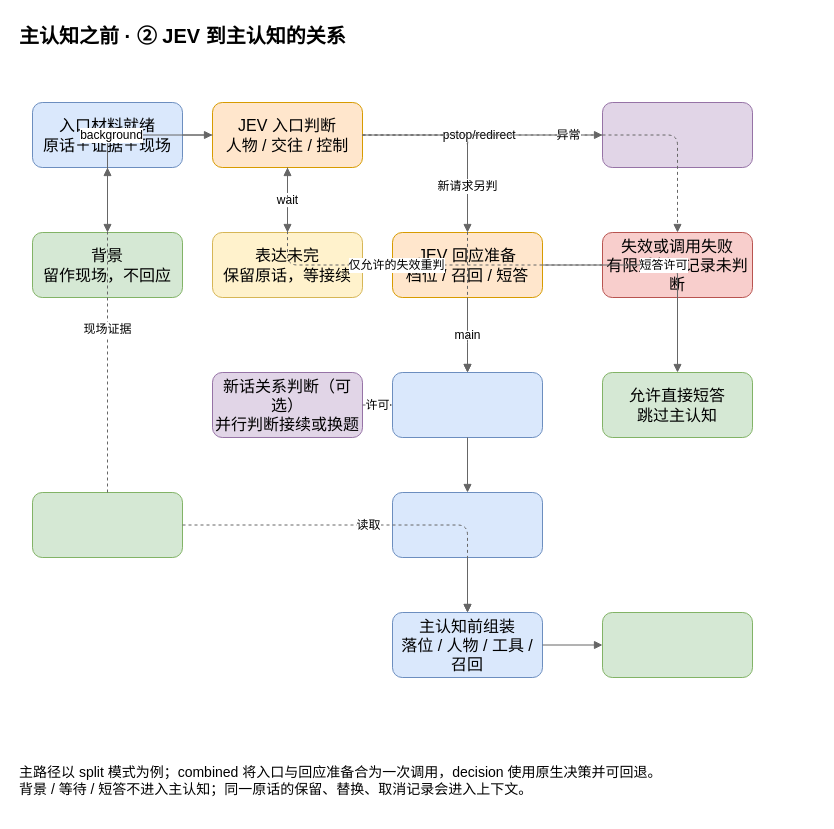
Image size: 834x829. Some labels were removed from this diagram. The centre of each missing label's shape, as x and y in pixels:
"主流程待处理队列 关联原话与交付上下文" belongs at (467,405).
"主认知模型调用 本图终点" belongs at (677,645).
"停说或改向 取消 / 替换旧未播内容" belongs at (677,135).
"前段准备（可选） 校验复用 / 放弃草稿" belongs at (467,525).
"只读 / 后台更新 片场、档案、播放回执" belongs at (107,525).
